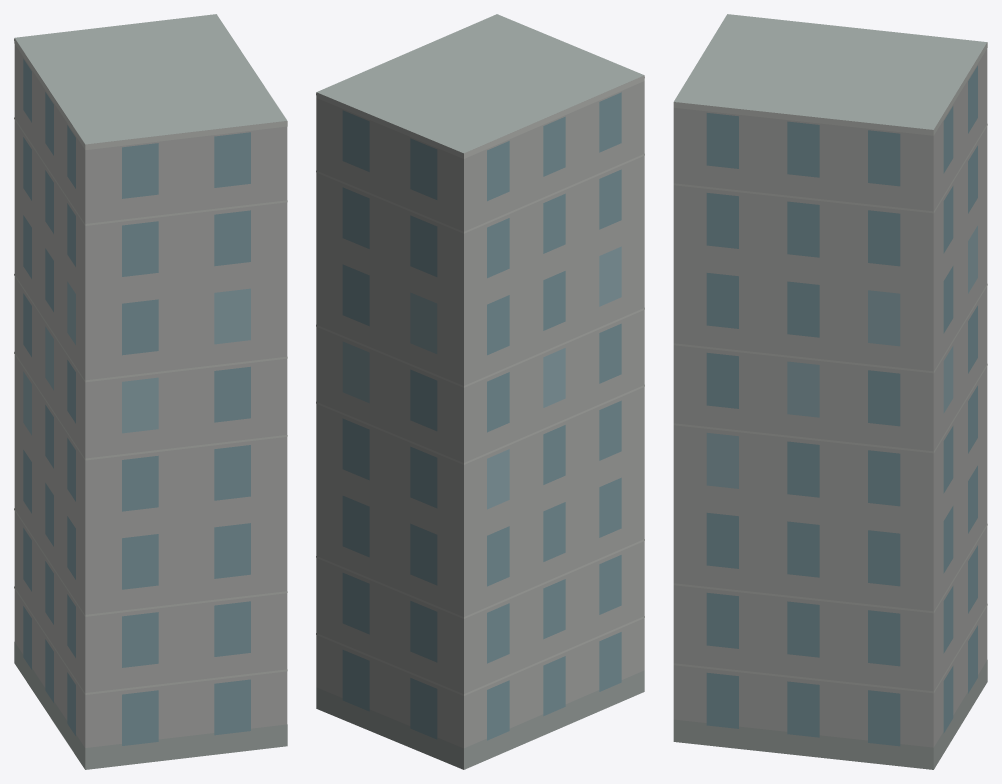
File: survey-upis-32579363.glb
3 renders of one model, left to right at view 1: azimuth 30°, elevation 25°; view 2: azimuth 150°, elevation 25°; view 3: azimuth 270°, elevation 25°, orthographic. The views are drawn at different scales.
Parts seen in each view (by area): view 1: survey-upis-32579363.tmp; view 2: survey-upis-32579363.tmp; view 3: survey-upis-32579363.tmp.
Boxes of the visible parts, <box> form: survey-upis-32579363.tmp: <box>14,14,287,769</box>; survey-upis-32579363.tmp: <box>316,14,644,769</box>; survey-upis-32579363.tmp: <box>673,14,987,769</box>.
Size of the model in its own units: 10.38 by 26.65 by 11.87.
